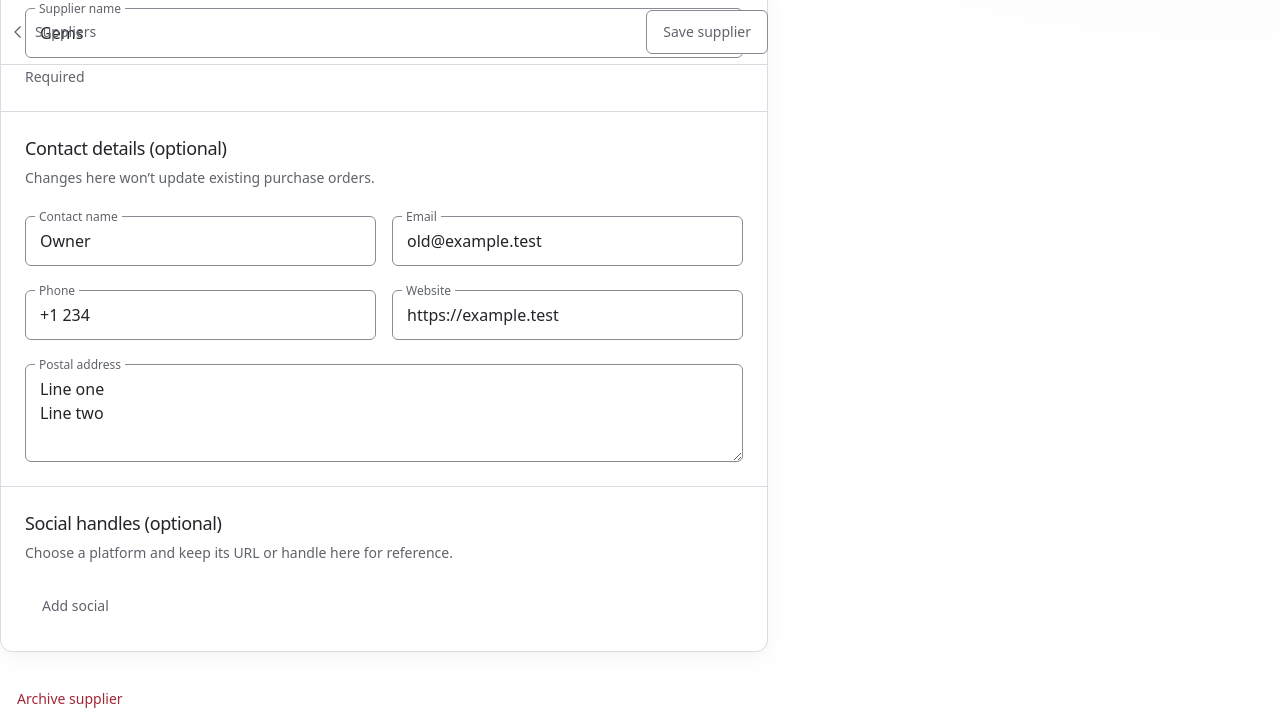
confirms and retries the correct archive operation from archived=false
This screenshot has width=1280, height=720.
(page scrolled)
Click the button "Archive supplier" at (70, 698), box [0,676,140,719]
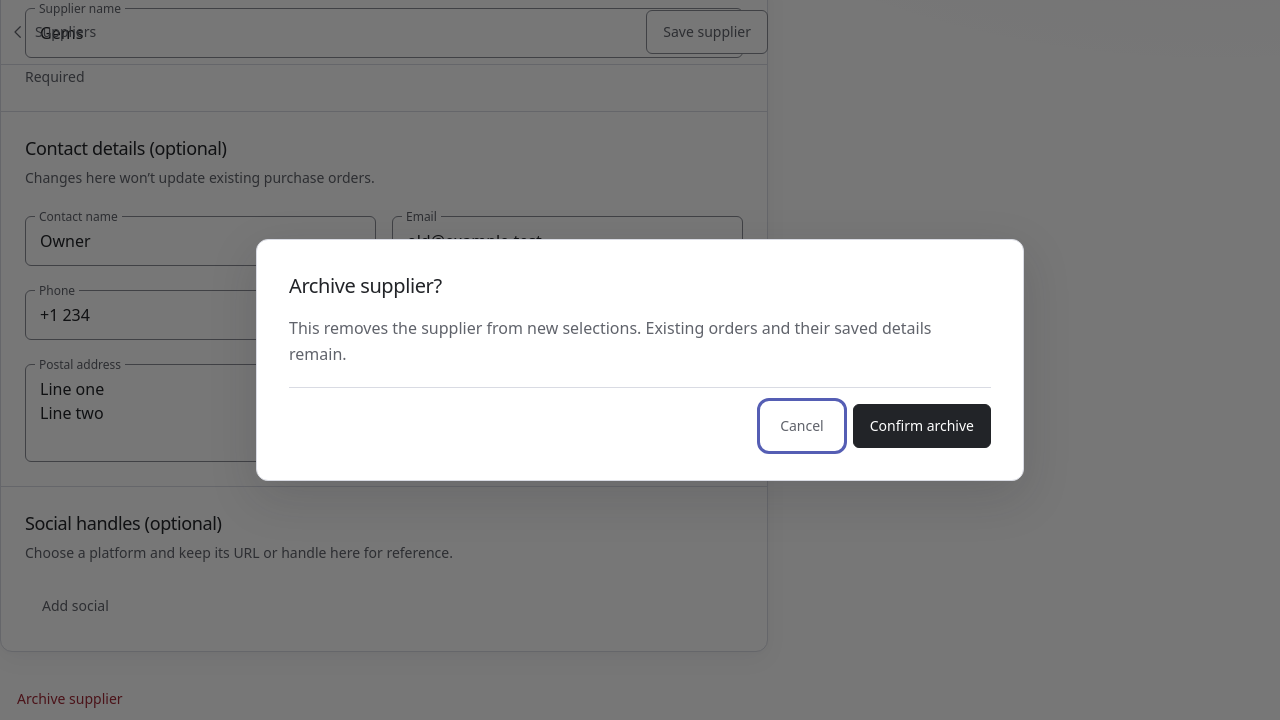
// WHEN confirming and checking the unknown outcome.
Click the button "Confirm archive" at (922, 426), box [853,404,991,448]
(page scrolled)
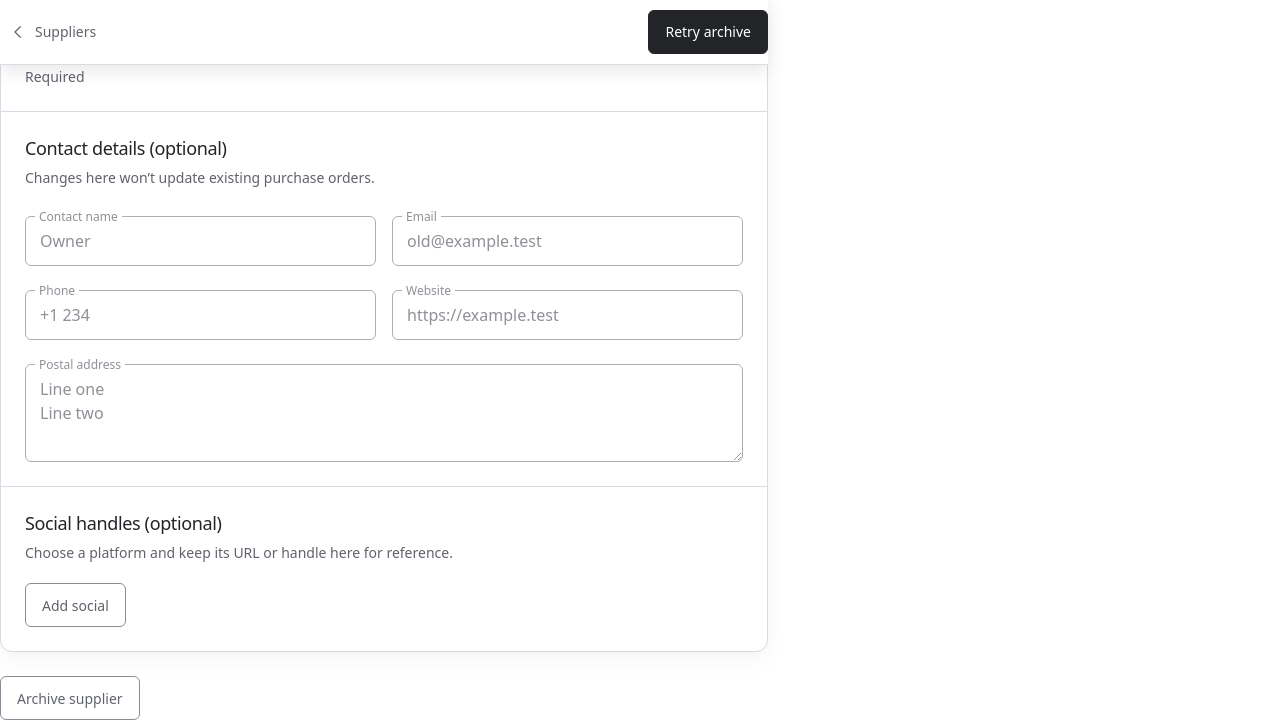
Click the button "Retry archive" at (708, 32), box [648,10,768,54]
(page scrolled)
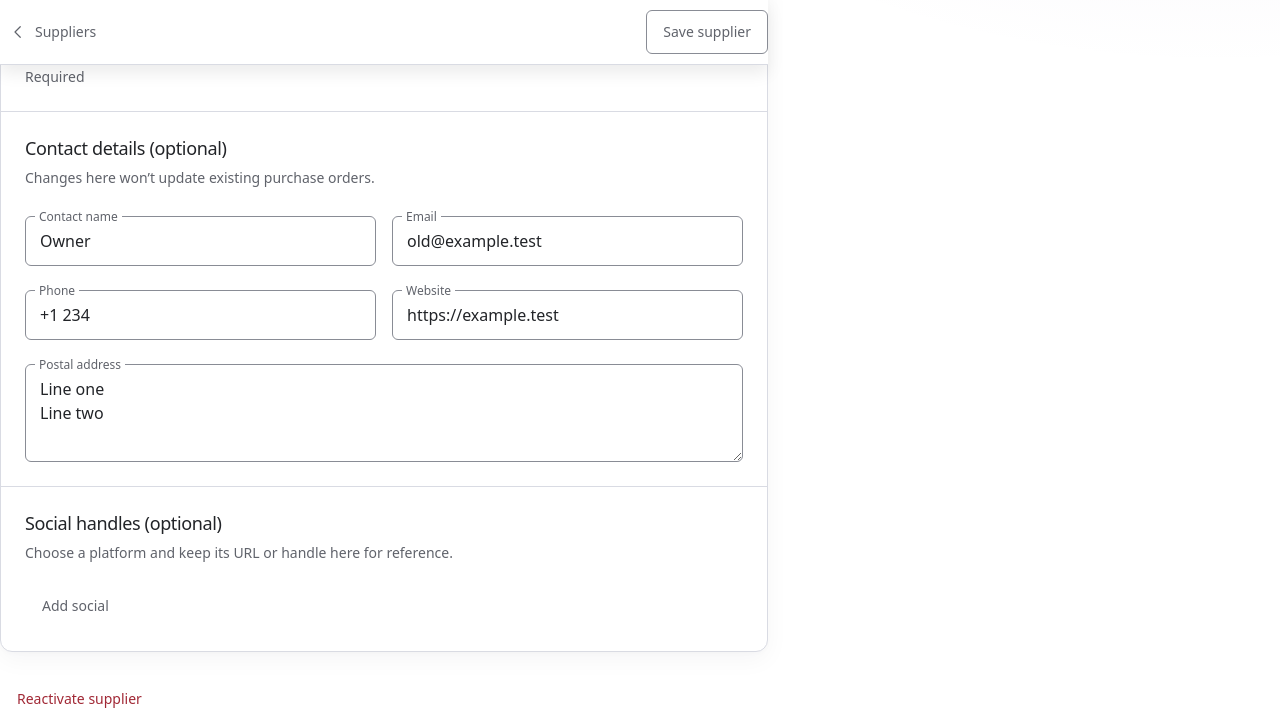
expect the button "Reactivate supplier" is shown: met, box [0,676,159,719]
